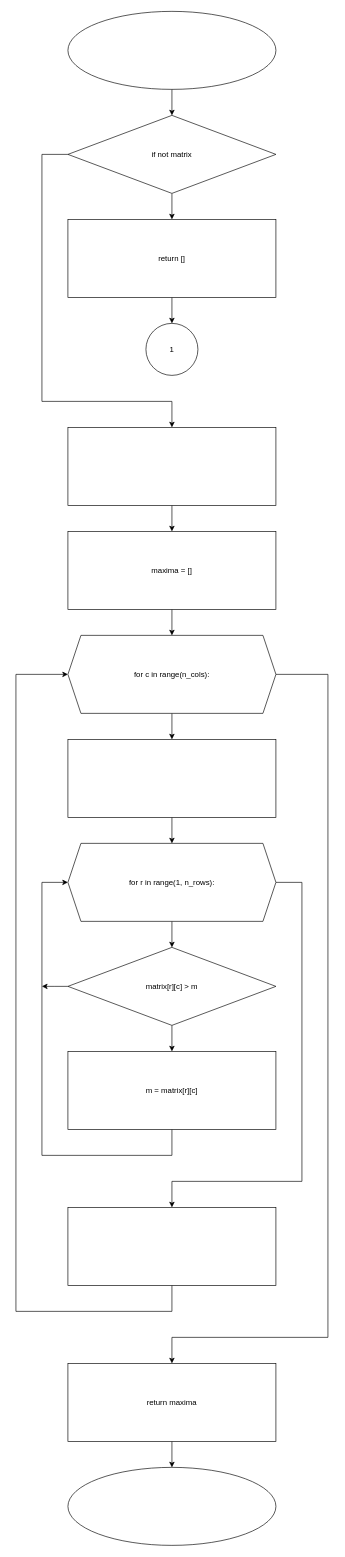
The diagram is 345 pixels wide and 1557 high, and some of its shapes have lost their labels. The box of each missing label's shape, as (x1, y1, x2, y2) in pixels:
m = matrix[0][c]: (67, 739, 276, 817)
maxima.append(m): (67, 1207, 276, 1285)
n_rows, n_cols = len(matrix), len(matrix[0]): (67, 427, 276, 505)
Конец: (67, 1467, 276, 1545)
Начало: (67, 11, 276, 89)
